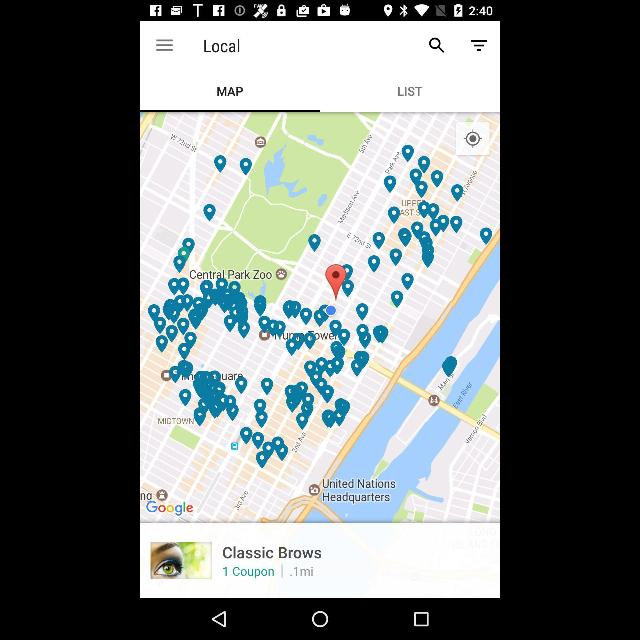icon: (457, 122, 489, 156), (155, 34, 175, 54), (468, 34, 488, 54), (428, 37, 444, 55), (212, 610, 228, 628), (413, 610, 429, 628), (312, 611, 328, 627)
iframe: (146, 540, 324, 582)
map: (140, 110, 500, 524)
multitab: (140, 66, 500, 110)
panel: (140, 524, 500, 598), (140, 23, 500, 66), (141, 600, 499, 638)
text: (200, 35, 244, 59)
uppertaskbar: (140, 1, 500, 21)
